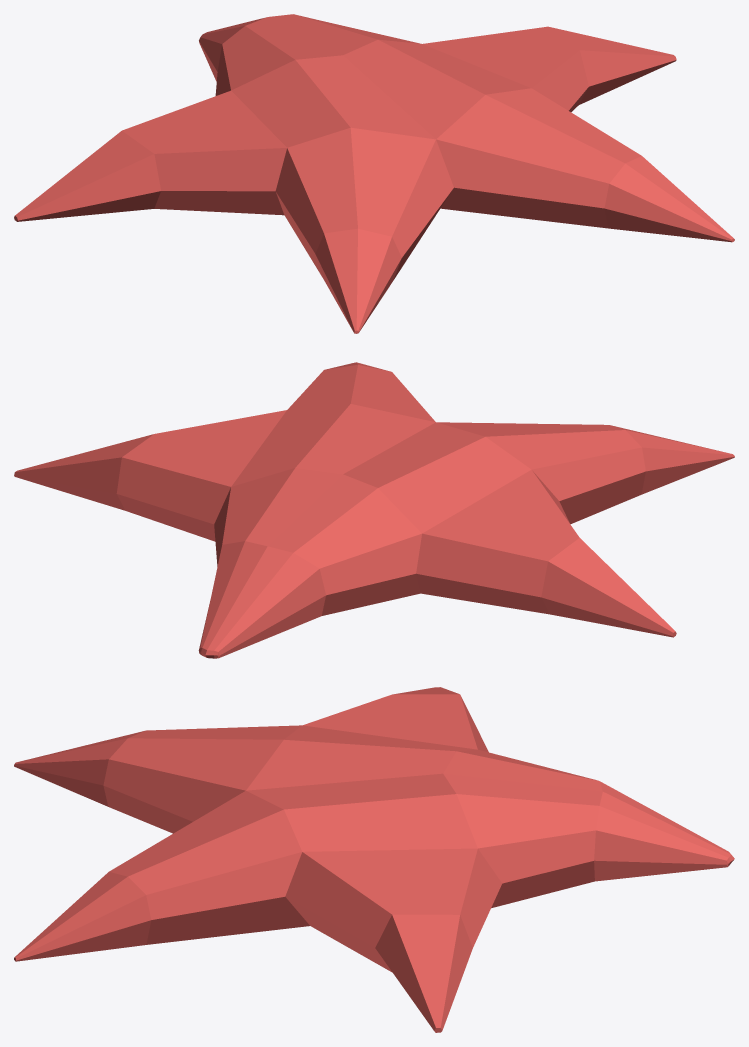
Rendered from Bintang Laut.fbx.
3 views of the same model, one above another, from view 1: azimuth 30°, elevation 25°; view 2: azimuth 150°, elevation 25°; view 3: azimuth 270°, elevation 25° (orthographic). The views are drawn at different scales.
Parts seen in each view (by area): view 1: Cube; view 2: Cube; view 3: Cube.
Boxes of the visible parts, bbox=[...] form: Cube: bbox=[14, 14, 734, 333]; Cube: bbox=[14, 362, 734, 658]; Cube: bbox=[14, 687, 734, 1032].
Bounding box in the file's own units: 593 × 73.77 × 530.
